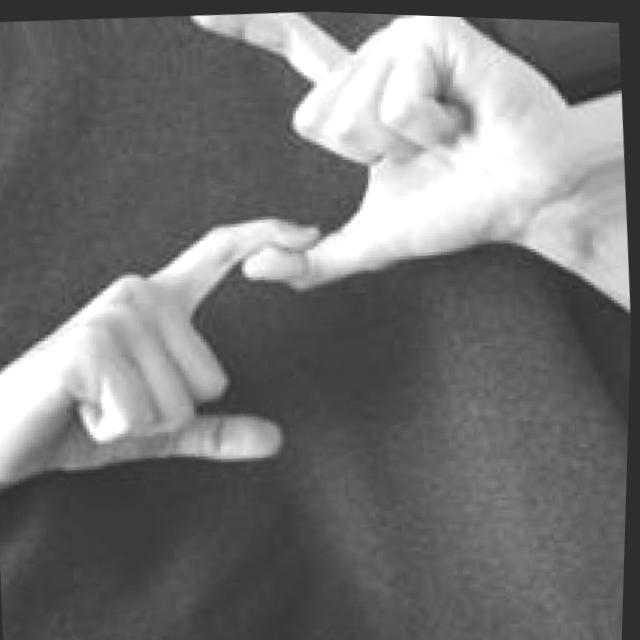S: (0, 0, 640, 517)
